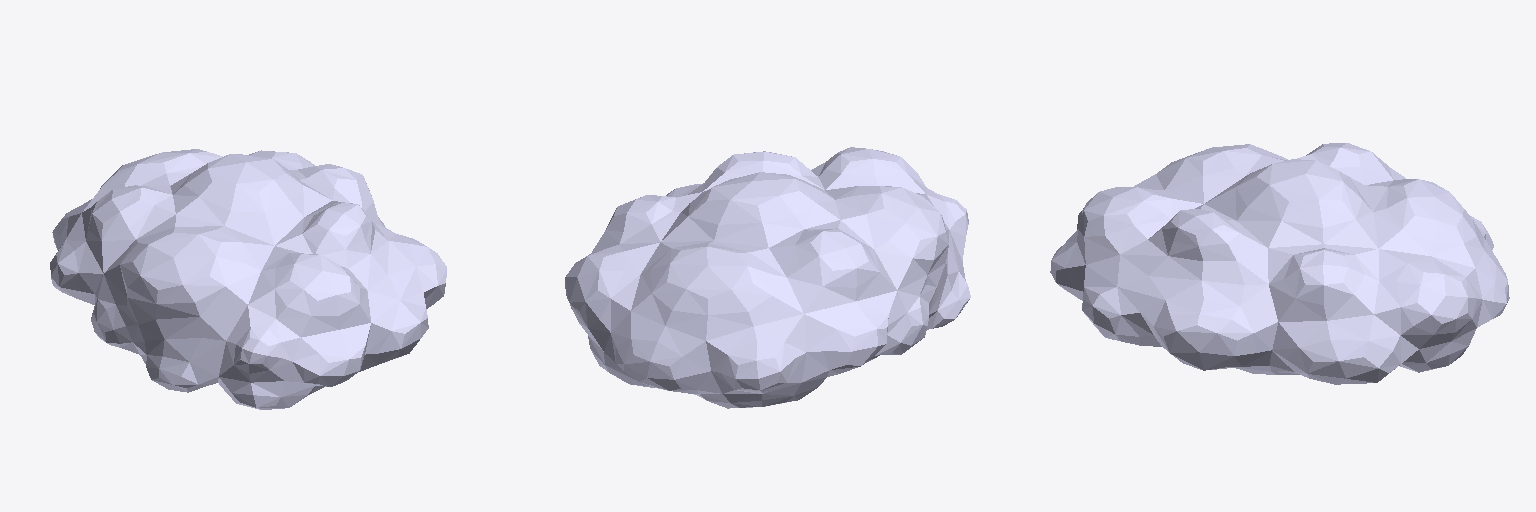
Rendered from cloud.obj.
The picture shows the model from 3 angles: view 1: azimuth 30°, elevation 25°; view 2: azimuth 150°, elevation 25°; view 3: azimuth 270°, elevation 25°; orthographic projection.
Visible parts, largest first — view 1: n0b0_0; view 2: n0b0_0; view 3: n0b0_0.
Boxes of the visible parts, x1=… form: n0b0_0: x1=50, y1=149, x2=446, y2=409; n0b0_0: x1=565, y1=147, x2=970, y2=408; n0b0_0: x1=1050, y1=143, x2=1509, y2=384.
Bounding box in the file's own units: 471 × 238 × 594.